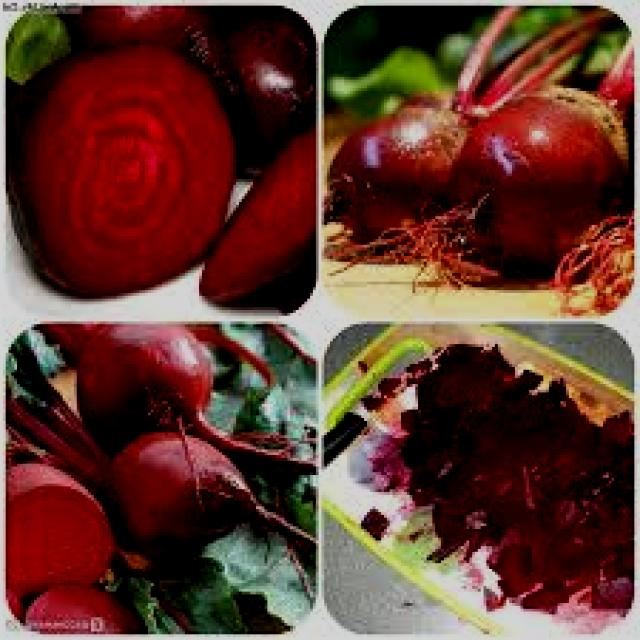tomato: (383, 355, 633, 607), (0, 40, 229, 304), (443, 82, 633, 287), (188, 114, 324, 320), (328, 95, 473, 234), (102, 426, 246, 560), (4, 465, 126, 590), (90, 324, 219, 432), (20, 574, 168, 640)
